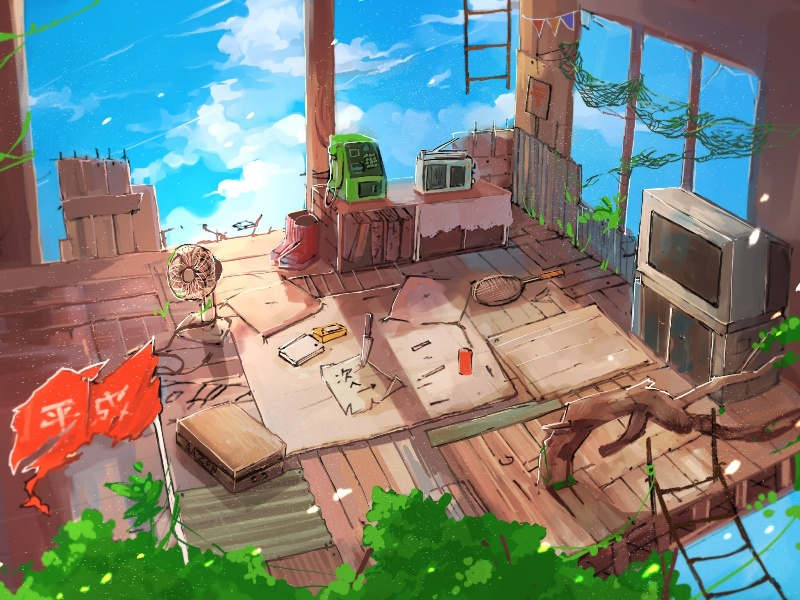public_phone: (315, 125, 398, 216)
tv: (618, 180, 795, 340)
